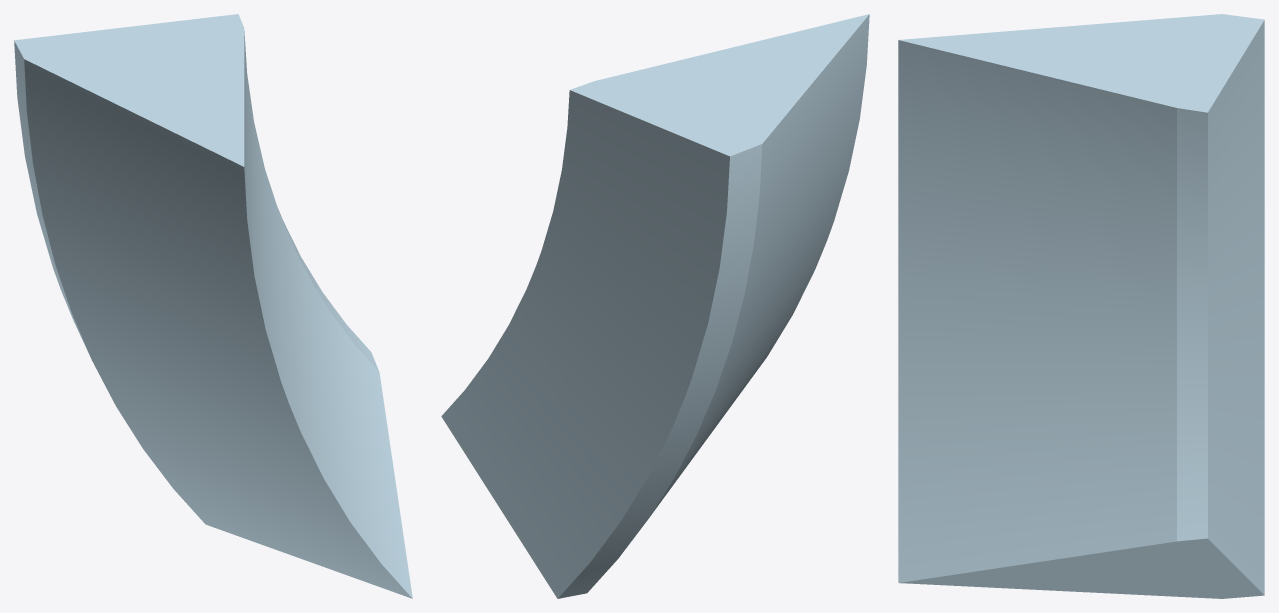
File: Sub_5_Cell_3_3.gltf
3 renders of one model, left to right at view 1: azimuth 30°, elevation 25°; view 2: azimuth 150°, elevation 25°; view 3: azimuth 270°, elevation 25°, orthographic. The views are drawn at different scales.
Visible parts, largest first — view 1: Sub_5_Cell_3_3; view 2: Sub_5_Cell_3_3; view 3: Sub_5_Cell_3_3.
Boxes of the visible parts, box(x1,y1,x2,y2) form: Sub_5_Cell_3_3: box(14, 14, 412, 598); Sub_5_Cell_3_3: box(441, 14, 869, 598); Sub_5_Cell_3_3: box(898, 14, 1264, 598).
Size of the model in its own units: 0.0616 by 0.0883 by 0.0589.
